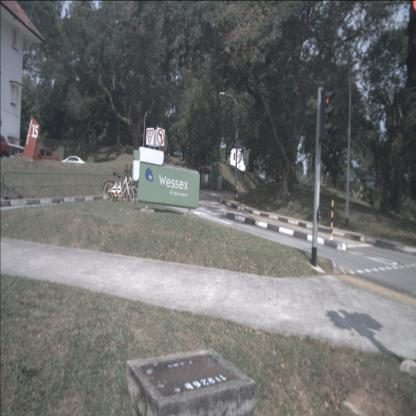vehicle-bicycle: (102, 164, 134, 206), (107, 163, 138, 205)
vehicle-car: (13, 146, 58, 176), (0, 142, 34, 176), (61, 155, 86, 171), (0, 134, 10, 166)
